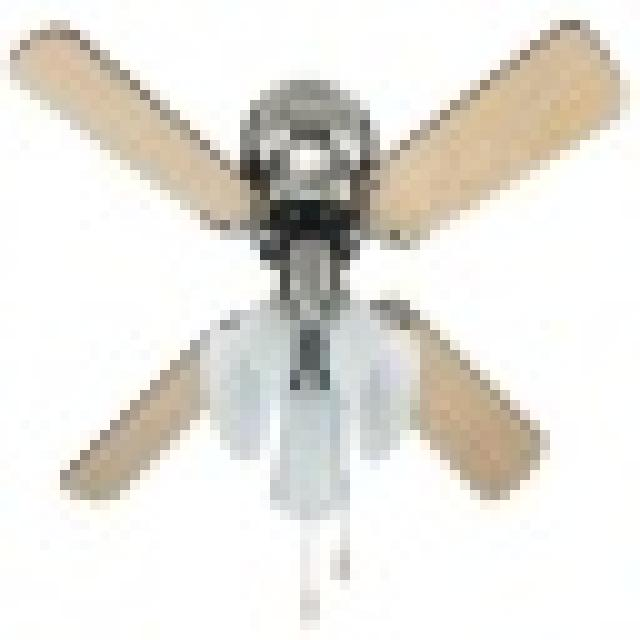Bulb: (12, 23, 628, 542)
